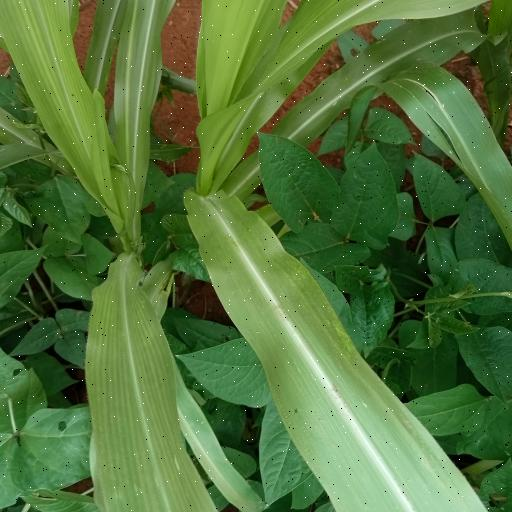Corn_Brown_Spots: (184, 189, 474, 512), (0, 0, 173, 228), (92, 250, 208, 512)
